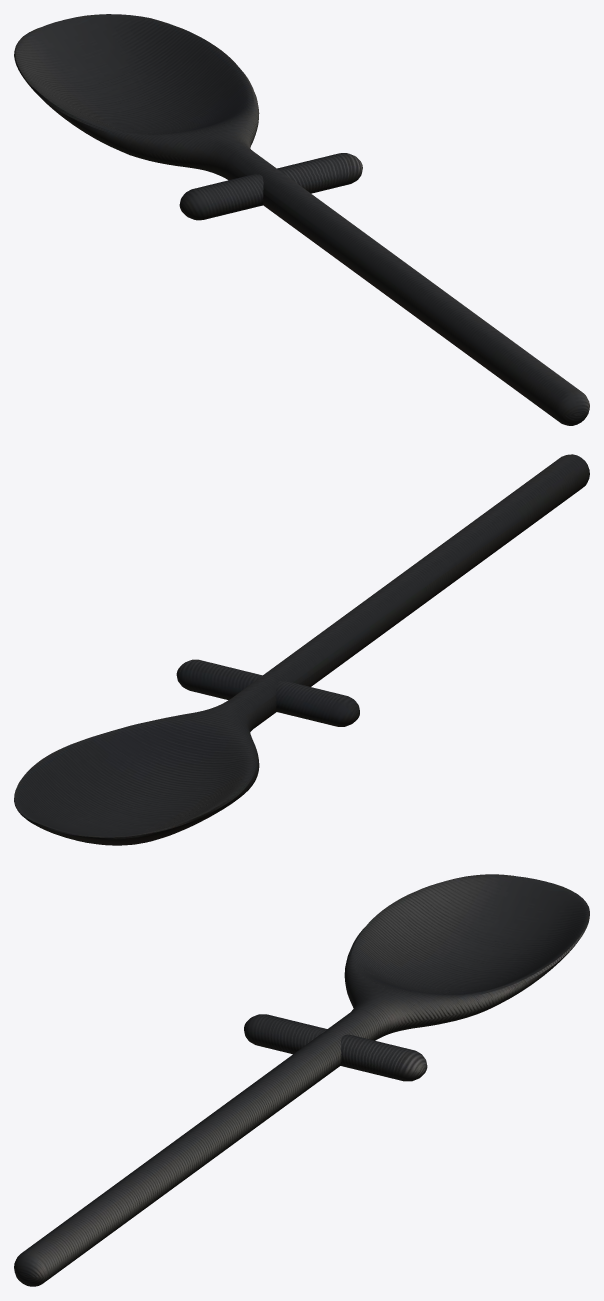
The model's file is 31_cross.glb.
3 views of the same model, one above another, from view 1: azimuth 30°, elevation 25°; view 2: azimuth 150°, elevation 25°; view 3: azimuth 330°, elevation 25° (orthographic).
Visible parts, largest first — view 1: 31_cross; view 2: 31_cross; view 3: 31_cross.
Boxes of the visible parts, box(x1,y1,x2,y2) form: 31_cross: box(14, 14, 589, 425); 31_cross: box(14, 454, 589, 845); 31_cross: box(14, 874, 589, 1286).
Size of the model in its own units: 0.0422 by 0.0102 by 0.2077.
1 material, 1 textured.
